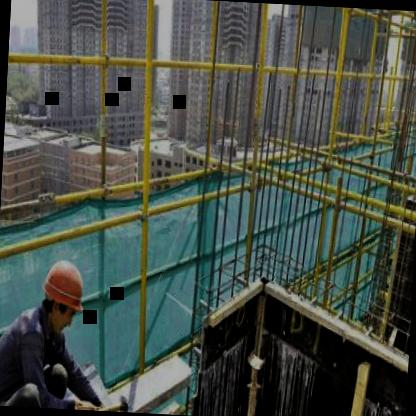helmet: (36, 252, 90, 342)
